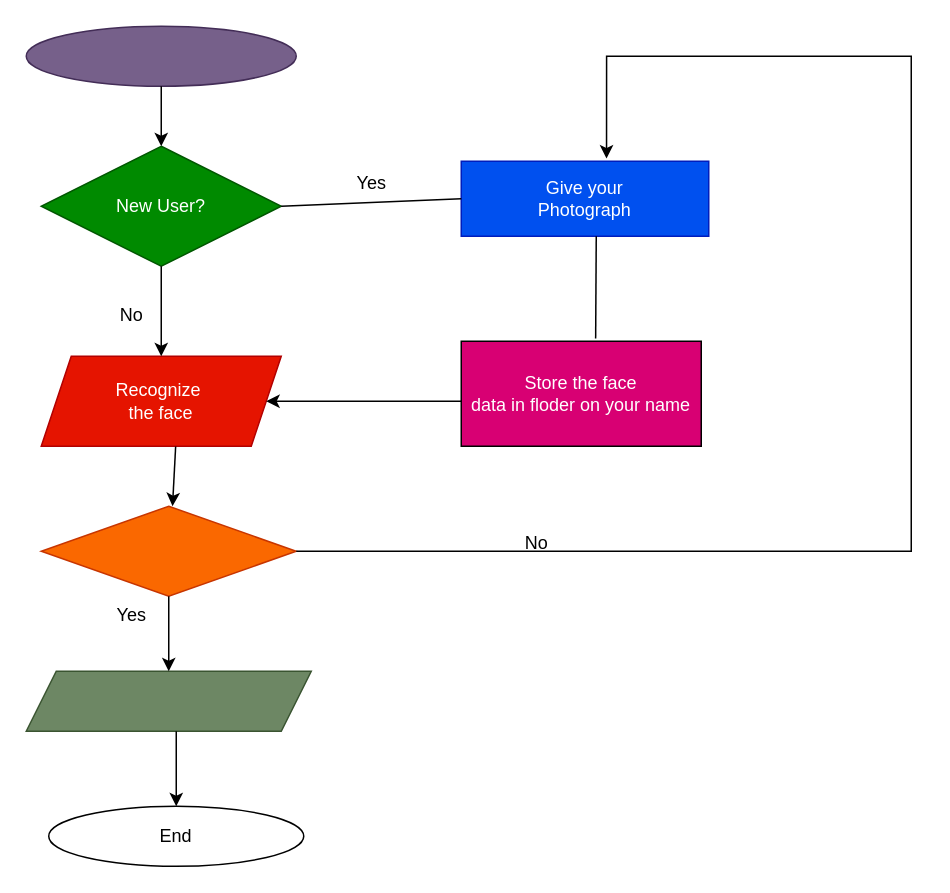
Some shapes in this 950 by 893 pixel diagram are drawn without their labels. Here are the shapes that lost their labels. From the top down, the box of each, then its label:
(25, 25, 296, 86): Start
(40, 505, 296, 596): Face Recognized
(25, 670, 311, 731): Stored in CSV file with Registration Number & Date, Time or entry
